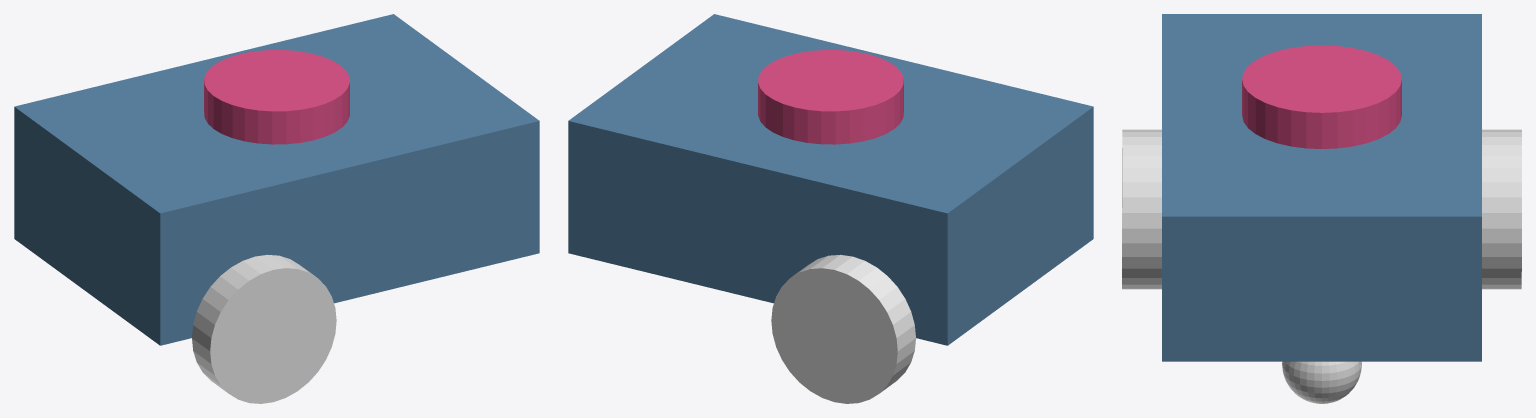
Rendered from turtle_bot.dae.
3 views of the same model, side by side, from view 1: azimuth 30°, elevation 25°; view 2: azimuth 150°, elevation 25°; view 3: azimuth 270°, elevation 25° (orthographic). The views are drawn at different scales.
Parts seen in each view (by area): view 1: base_link_visual, right_wheel_link_visual, lidar_visual; view 2: base_link_visual, left_wheel_link_visual, lidar_visual; view 3: base_link_visual, lidar_visual, right_wheel_link_visual, left_wheel_link_visual, caster_visual.
Part boxes in pixels (x1,y1,x2,y2): base_link_visual: (14,14,539,345); right_wheel_link_visual: (192,254,336,403); lidar_visual: (204,50,349,144); base_link_visual: (568,14,1093,345); left_wheel_link_visual: (771,254,915,403); lidar_visual: (758,50,903,144); base_link_visual: (1162,14,1481,361); lidar_visual: (1242,45,1401,148); right_wheel_link_visual: (1122,129,1161,289); left_wheel_link_visual: (1482,129,1521,289); caster_visual: (1282,361,1361,403).
Size of what is drawn, in the model's own units: 0.6 by 0.5002 by 0.35.
